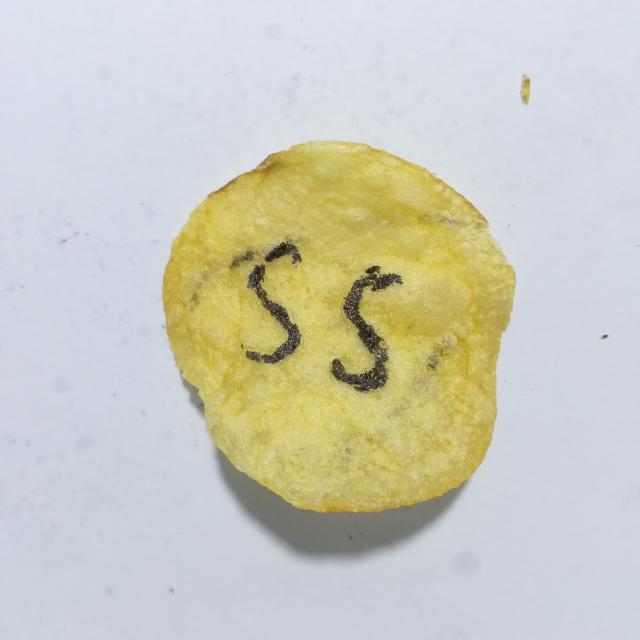chip: (163, 142, 514, 511)
damaged: (331, 266, 402, 392), (246, 265, 301, 364), (265, 242, 302, 264), (240, 343, 244, 349)
semi-damaged: (426, 334, 456, 370), (417, 213, 458, 225), (231, 250, 254, 267), (413, 375, 428, 393)
